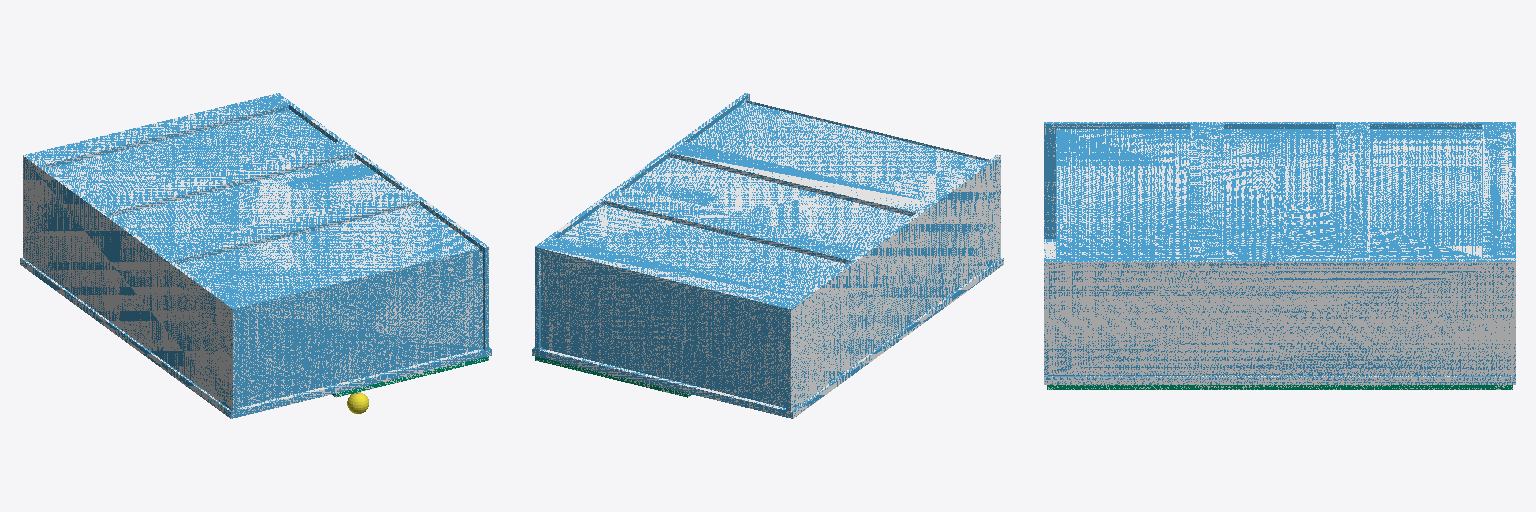
URDF robot description (right-pull-door):
<robot name="right-pull-door">
	<link name="base" />
	<link name="link_0">
		<visual name="out-frame">
			<origin xyz="0 0 0" />
			<geometry>
				<mesh filename="texture_dae/frame.dae" scale="0.8 0.8 0.8" />
			</geometry>
		</visual>
		<collision>
			<origin xyz="0 0 0" />
			<geometry>
				<mesh filename="texture_dae/frame.dae" scale="0.8 0.8 0.8" />
			</geometry>
		</collision>
	</link>
	<joint name="joint_0" type="fixed">
		<origin rpy="1.570796326794897 0 -1.570796326794897" xyz="0 0 0" />
		<child link="link_0" />
		<parent link="base" />
	</joint>
	<link name="link_1">
		<visual name="surf-board">
			<origin xyz="1.2410293698310852 -0.10945920129679426 0" />
			<geometry>
				<mesh filename="texture_dae/board.dae" scale="0.8 0.8 0.8" />
			</geometry>
		</visual>
		<collision>
			<origin xyz="1.2410293698310852 -0.10945920129679426 0" />
			<geometry>
				<mesh filename="texture_dae/board.dae" scale="0.8 0.8 0.8" />
			</geometry>
		</collision>
	</link>
	<joint name="joint_1" type="revolute">
		<origin xyz="-1.2410293698310852 0.10945920129679426 0" />
		<axis xyz="0 -1 0" />
		<child link="link_1" />
		<parent link="link_0" />
		<limit lower="0" upper="1.5079644737231006" />
	</joint>
	<link name="link_2">
		<visual name="handle">
			<origin xyz="0 0 0" />
			<geometry>
				<mesh filename="texture_dae/9962024.dae" scale="1.5444295751722061 1.5444295751722061 1.5444295751722061" />
			</geometry>
		</visual>
		<collision>
			<origin xyz="0 0 0" />
			<geometry>
				<mesh filename="texture_dae/9962024.dae" scale="1.5444295751722061 1.5444295751722061 1.5444295751722061" />
			</geometry>
		</collision>
	</link>
	<joint name="joint_2" type="revolute">
		<origin xyz="1.2410293698310852 -0.10945920129679426 0.009322602628239486" />
		<child link="link_2" />
		<parent link="link_1" />
		<axis xyz="0 0 1" />
		<limit lower="0" upper="0" />
	</joint>
</robot>

--- What the picture shows (computed from the rendered views, not written in the file) ---
The picture shows the robot from 3 angles, left to right: view 1: azimuth 30°, elevation 25°; view 2: azimuth 150°, elevation 25°; view 3: azimuth 270°, elevation 25°; orthographic projection.
Robot: right-pull-door — 4 links, 3 joints (2 revolute, 1 fixed); root link base; default pose: every joint at zero.
Links seen in each view (by area): view 1: link_0, link_1; view 2: link_0, link_1; view 3: link_0, link_1.
Link boxes in pixels (x1,y1,x2,y2): link_0: (20, 93, 491, 418); link_1: (332, 356, 488, 397); link_0: (532, 93, 1003, 418); link_1: (535, 356, 691, 397); link_0: (1044, 122, 1515, 384); link_1: (1047, 385, 1512, 389).
Bounding box of the posed robot: 0.9203 × 1.29 × 0.4761 m (x, y, z).
Meshes: 3 distinct files referenced, 3 mesh visuals loaded (3 Collada DAE).
